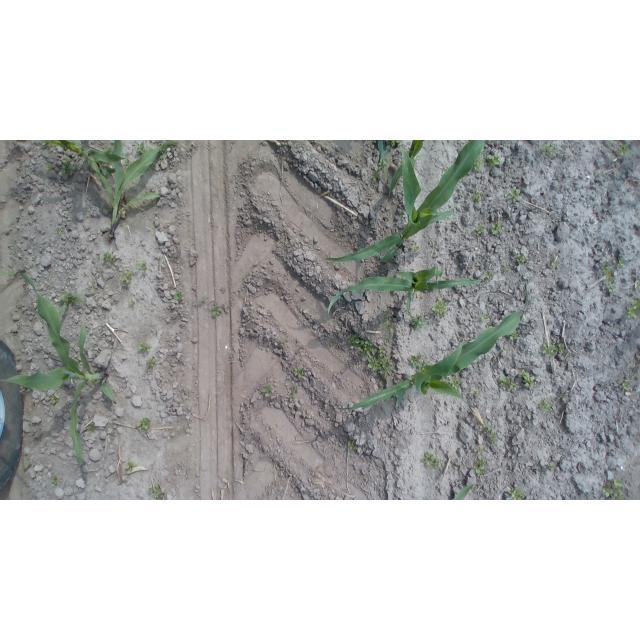Maize: (327, 279, 530, 412), (0, 271, 116, 478), (322, 141, 486, 264), (83, 140, 187, 240), (328, 264, 485, 315), (43, 141, 128, 176), (388, 141, 424, 200), (451, 484, 481, 501), (376, 141, 387, 170)
Weeds: (347, 334, 393, 375), (61, 155, 76, 182), (542, 341, 565, 357), (420, 451, 440, 469), (517, 368, 535, 388), (378, 311, 398, 329), (57, 290, 84, 303), (602, 486, 627, 500), (627, 296, 640, 319), (432, 300, 449, 317), (601, 259, 614, 281), (148, 483, 165, 499), (211, 303, 230, 317), (136, 418, 152, 434), (474, 459, 489, 476), (507, 187, 521, 205), (507, 486, 525, 500), (537, 398, 552, 414), (479, 417, 494, 433), (413, 313, 427, 330), (138, 340, 153, 355), (262, 382, 275, 399), (471, 189, 485, 204), (102, 251, 116, 266), (292, 366, 308, 379), (499, 376, 516, 388), (288, 384, 299, 402), (487, 153, 501, 167), (492, 220, 505, 235), (541, 142, 556, 155), (134, 259, 147, 274), (410, 353, 423, 368), (417, 359, 431, 372), (125, 458, 137, 472), (450, 378, 463, 390), (378, 157, 389, 171), (146, 356, 158, 368), (120, 271, 132, 283), (487, 434, 499, 446), (620, 144, 631, 157), (347, 439, 358, 452), (173, 289, 182, 304), (517, 253, 528, 265), (135, 141, 145, 154), (620, 378, 630, 391), (611, 477, 624, 487), (474, 445, 485, 455), (412, 242, 421, 254), (22, 460, 32, 470), (476, 226, 485, 237), (483, 270, 494, 279), (477, 157, 484, 171), (387, 141, 401, 148), (88, 424, 96, 436), (502, 262, 509, 275), (548, 463, 557, 473), (510, 331, 519, 341), (370, 171, 378, 182), (481, 313, 489, 324), (471, 389, 482, 397), (608, 283, 616, 294), (51, 392, 58, 404), (618, 257, 626, 267), (51, 475, 58, 485), (92, 282, 97, 295), (46, 163, 54, 171), (104, 147, 113, 154), (160, 151, 166, 160), (43, 140, 52, 146), (280, 338, 286, 347), (552, 261, 561, 267), (220, 287, 227, 293), (201, 295, 207, 302), (56, 227, 62, 234), (557, 391, 564, 397), (130, 300, 135, 308), (126, 159, 131, 166), (635, 372, 640, 378), (380, 381, 385, 387), (637, 282, 640, 291), (158, 141, 163, 146)
